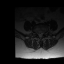CCS_normal: (39, 30, 41, 39)
LFS_normal: (42, 30, 44, 35)
LLS_normal: (41, 30, 42, 37)
RFS_normal: (36, 30, 37, 35)
RLS_normal: (37, 30, 39, 38)
